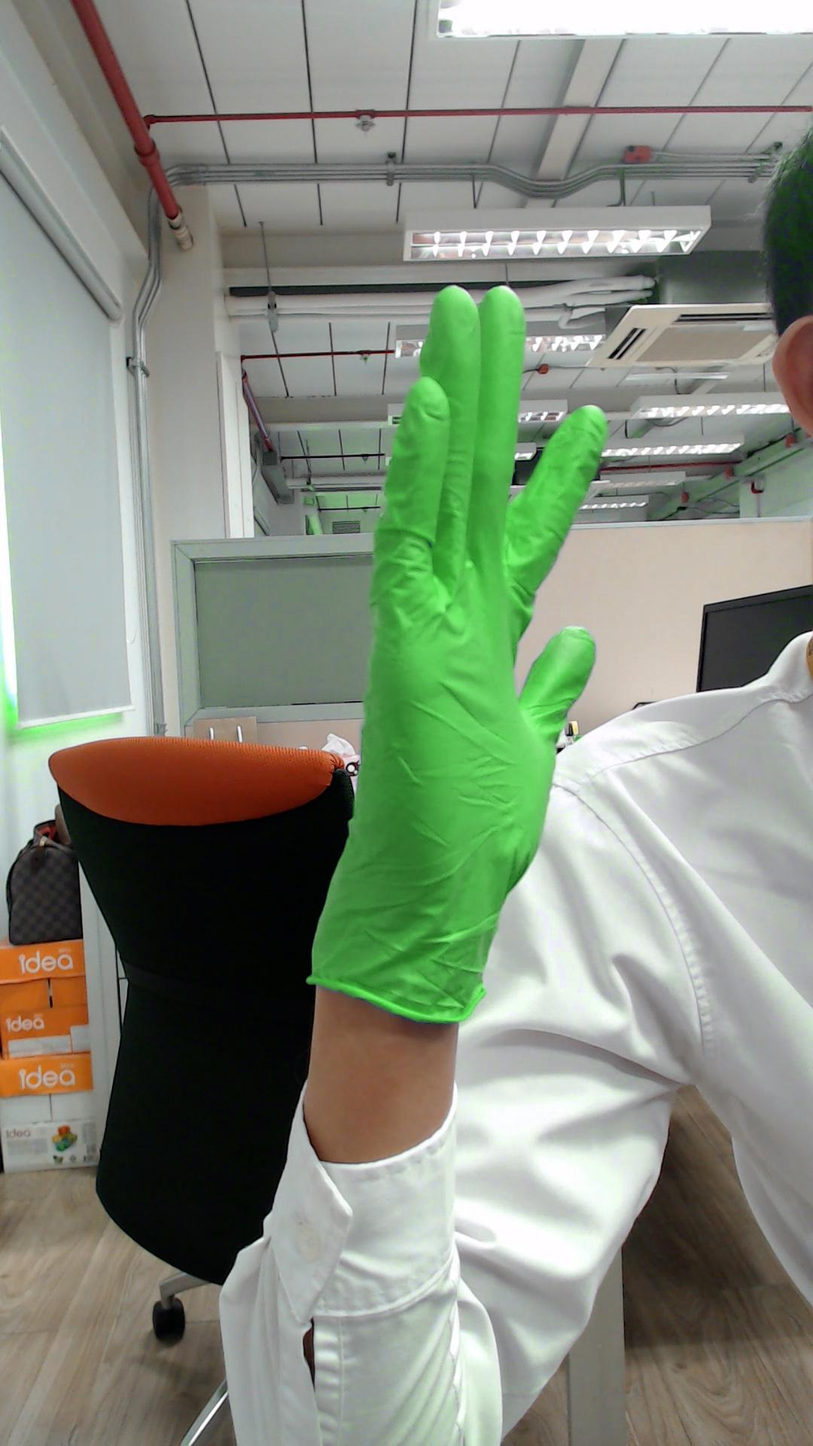gloves: (351, 279, 614, 877)
